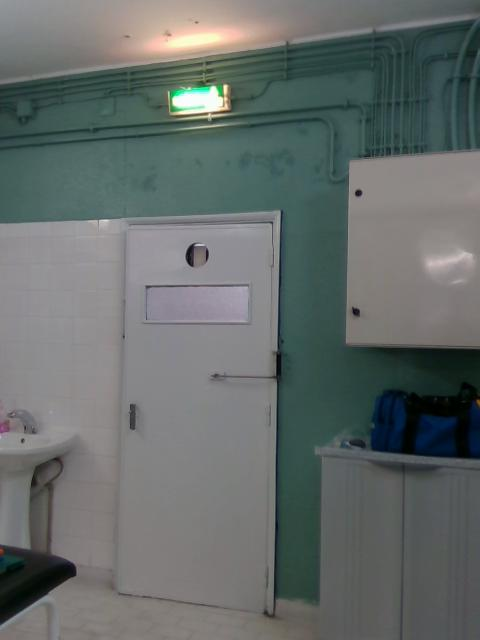closed_door: (112, 219, 281, 619)
